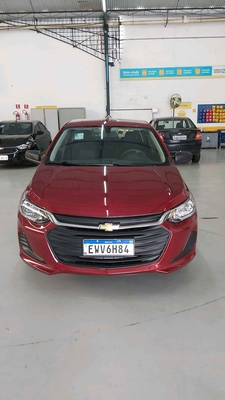Frontal Veiculo: (15, 122, 200, 277)
